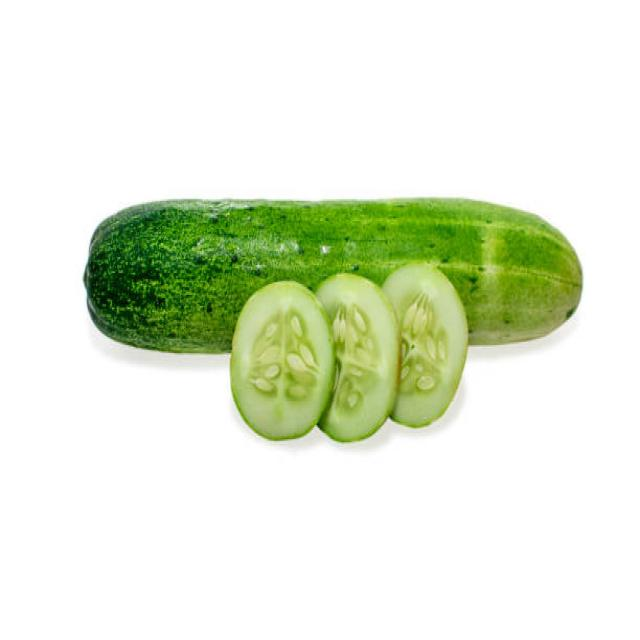cucumber: (85, 194, 584, 352)
